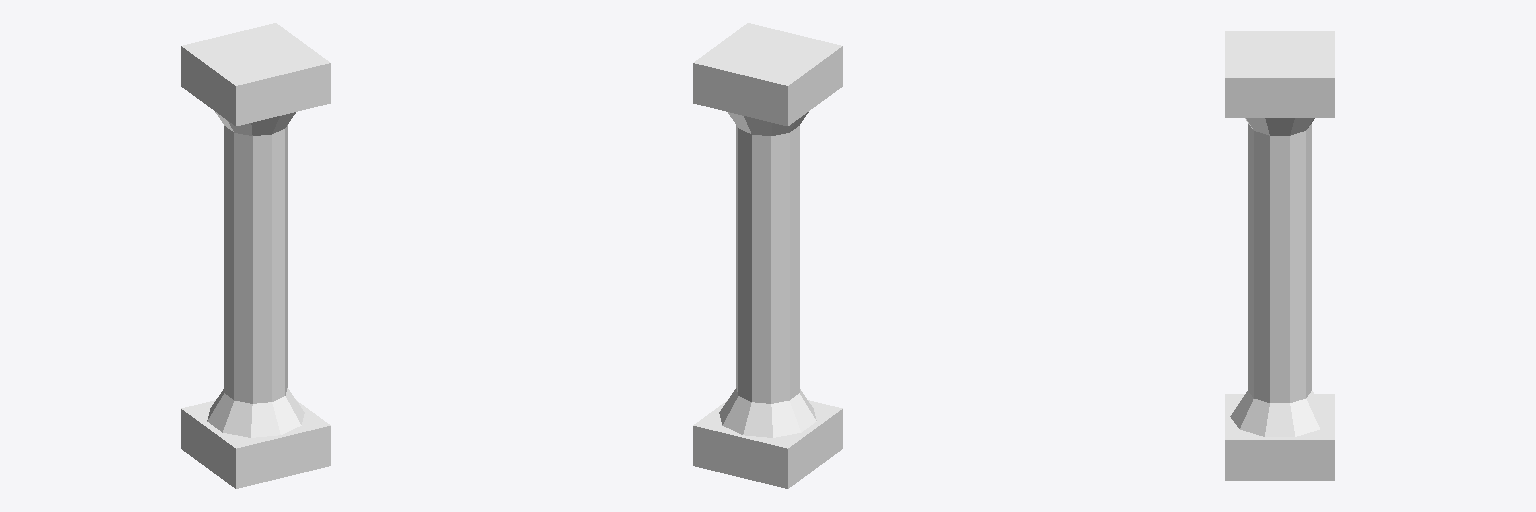
File: Column_Made_By_Tyro_Smith.obj
The picture shows the model from 3 angles: view 1: azimuth 30°, elevation 25°; view 2: azimuth 150°, elevation 25°; view 3: azimuth 270°, elevation 25°; orthographic projection.
Visible parts, largest first — view 1: Cylinder.001_Cylinder.002, Cube_Cube.001, Cube.001_Cube.002; view 2: Cylinder.001_Cylinder.002, Cube_Cube.001, Cube.001_Cube.002; view 3: Cylinder.001_Cylinder.002, Cube_Cube.001, Cube.001_Cube.002.
Boxes of the visible parts, <box> form: Cylinder.001_Cylinder.002: <box>207,112,304,437</box>; Cube_Cube.001: <box>181,23,330,125</box>; Cube.001_Cube.002: <box>181,400,330,488</box>; Cylinder.001_Cylinder.002: <box>719,112,816,437</box>; Cube_Cube.001: <box>693,23,842,125</box>; Cube.001_Cube.002: <box>693,400,842,488</box>; Cylinder.001_Cylinder.002: <box>1230,118,1329,436</box>; Cube_Cube.001: <box>1225,31,1334,117</box>; Cube.001_Cube.002: <box>1225,394,1334,480</box>.
Size of the model in its own units: 3.4 by 13.78 by 3.4.